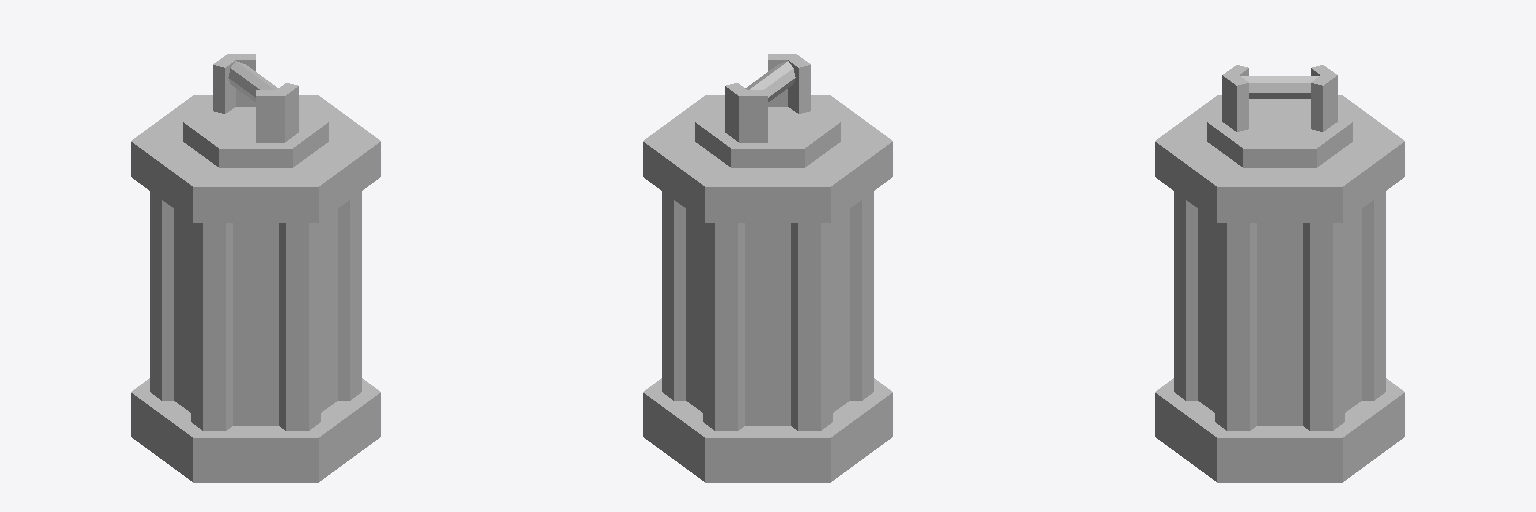
The model's file is Lamp.obj.
3 views of the same model, side by side, from view 1: azimuth 30°, elevation 25°; view 2: azimuth 150°, elevation 25°; view 3: azimuth 270°, elevation 25° (orthographic).
Parts seen in each view (by area): view 1: Cylinder.002_Cylinder.004, Cylinder.001, Cylinder, Cylinder.003_Cylinder.005, Cylinder.004_Cylinder.006; view 2: Cylinder.002_Cylinder.004, Cylinder.001, Cylinder, Cylinder.003_Cylinder.005, Cylinder.004_Cylinder.006; view 3: Cylinder.002_Cylinder.004, Cylinder.001, Cylinder, Cylinder.003_Cylinder.005, Cylinder.004_Cylinder.006.
Boxes of the visible parts, <box> form: Cylinder.002_Cylinder.004: <box>150,191,361,430</box>; Cylinder.001: <box>131,95,380,222</box>; Cylinder: <box>131,378,380,482</box>; Cylinder.003_Cylinder.005: <box>183,54,328,167</box>; Cylinder.004_Cylinder.006: <box>228,61,278,101</box>; Cylinder.002_Cylinder.004: <box>662,191,873,430</box>; Cylinder.001: <box>643,95,892,222</box>; Cylinder: <box>643,378,892,482</box>; Cylinder.003_Cylinder.005: <box>695,54,840,167</box>; Cylinder.004_Cylinder.006: <box>745,61,795,101</box>; Cylinder.002_Cylinder.004: <box>1174,191,1385,430</box>; Cylinder.001: <box>1155,95,1404,222</box>; Cylinder: <box>1155,378,1404,482</box>; Cylinder.003_Cylinder.005: <box>1207,65,1352,167</box>; Cylinder.004_Cylinder.006: <box>1241,76,1318,98</box>.
Size of the model in its own units: 1.73 by 3.19 by 2.